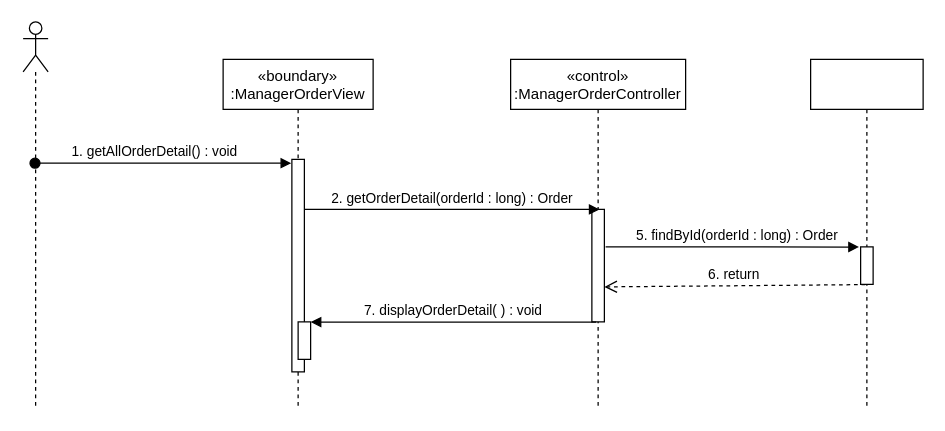
Some shapes in this 945 by 431 pixel diagram are drawn without their labels. Each missing label, with the box of its shape:
Quản trị viên: (22, 21, 48, 409)
«entity» :Order: (809, 58, 923, 409)
